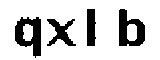b: (110, 8, 147, 51)
l: (83, 5, 103, 53)
q: (10, 14, 45, 59)
x: (46, 16, 78, 49)
